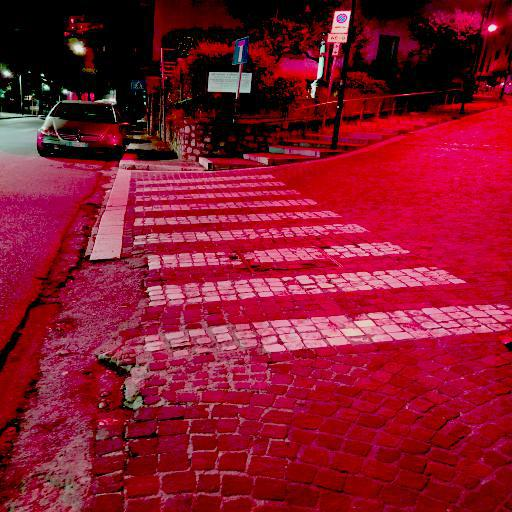crosswalk: (131, 220, 415, 272), (133, 180, 307, 204)
